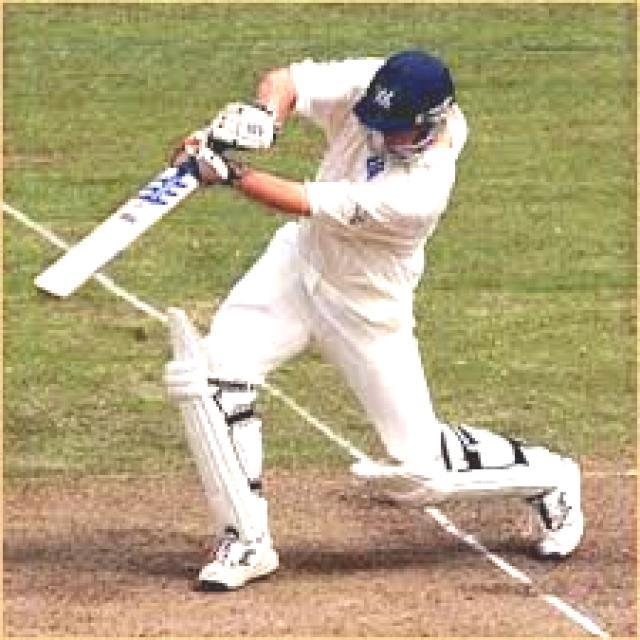bat: (35, 158, 197, 296)
toe: (21, 279, 79, 313)
